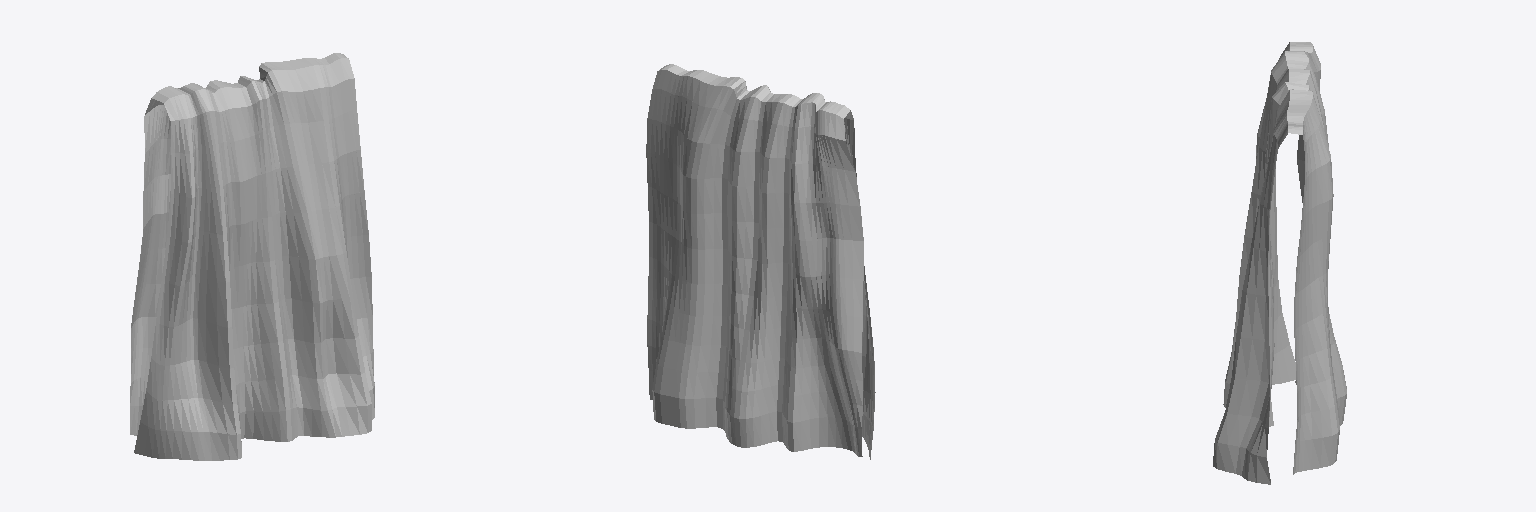
File: housesp_052.obj
The picture shows the model from 3 angles: view 1: azimuth 30°, elevation 25°; view 2: azimuth 150°, elevation 25°; view 3: azimuth 270°, elevation 25°; orthographic projection.
Bounding box in the file's own units: 32.99 × 50 × 17.18.